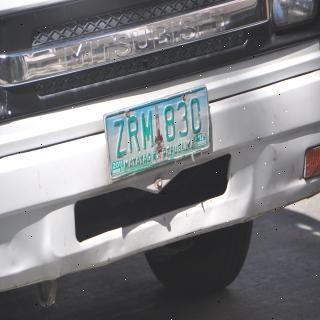license: (105, 88, 211, 181)
